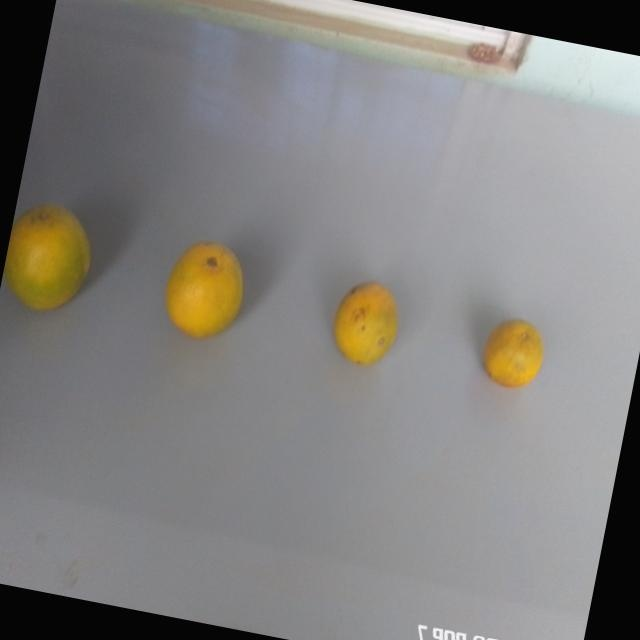agrume: (151, 220, 261, 356), (0, 191, 103, 331), (324, 271, 414, 379), (473, 302, 551, 402)
